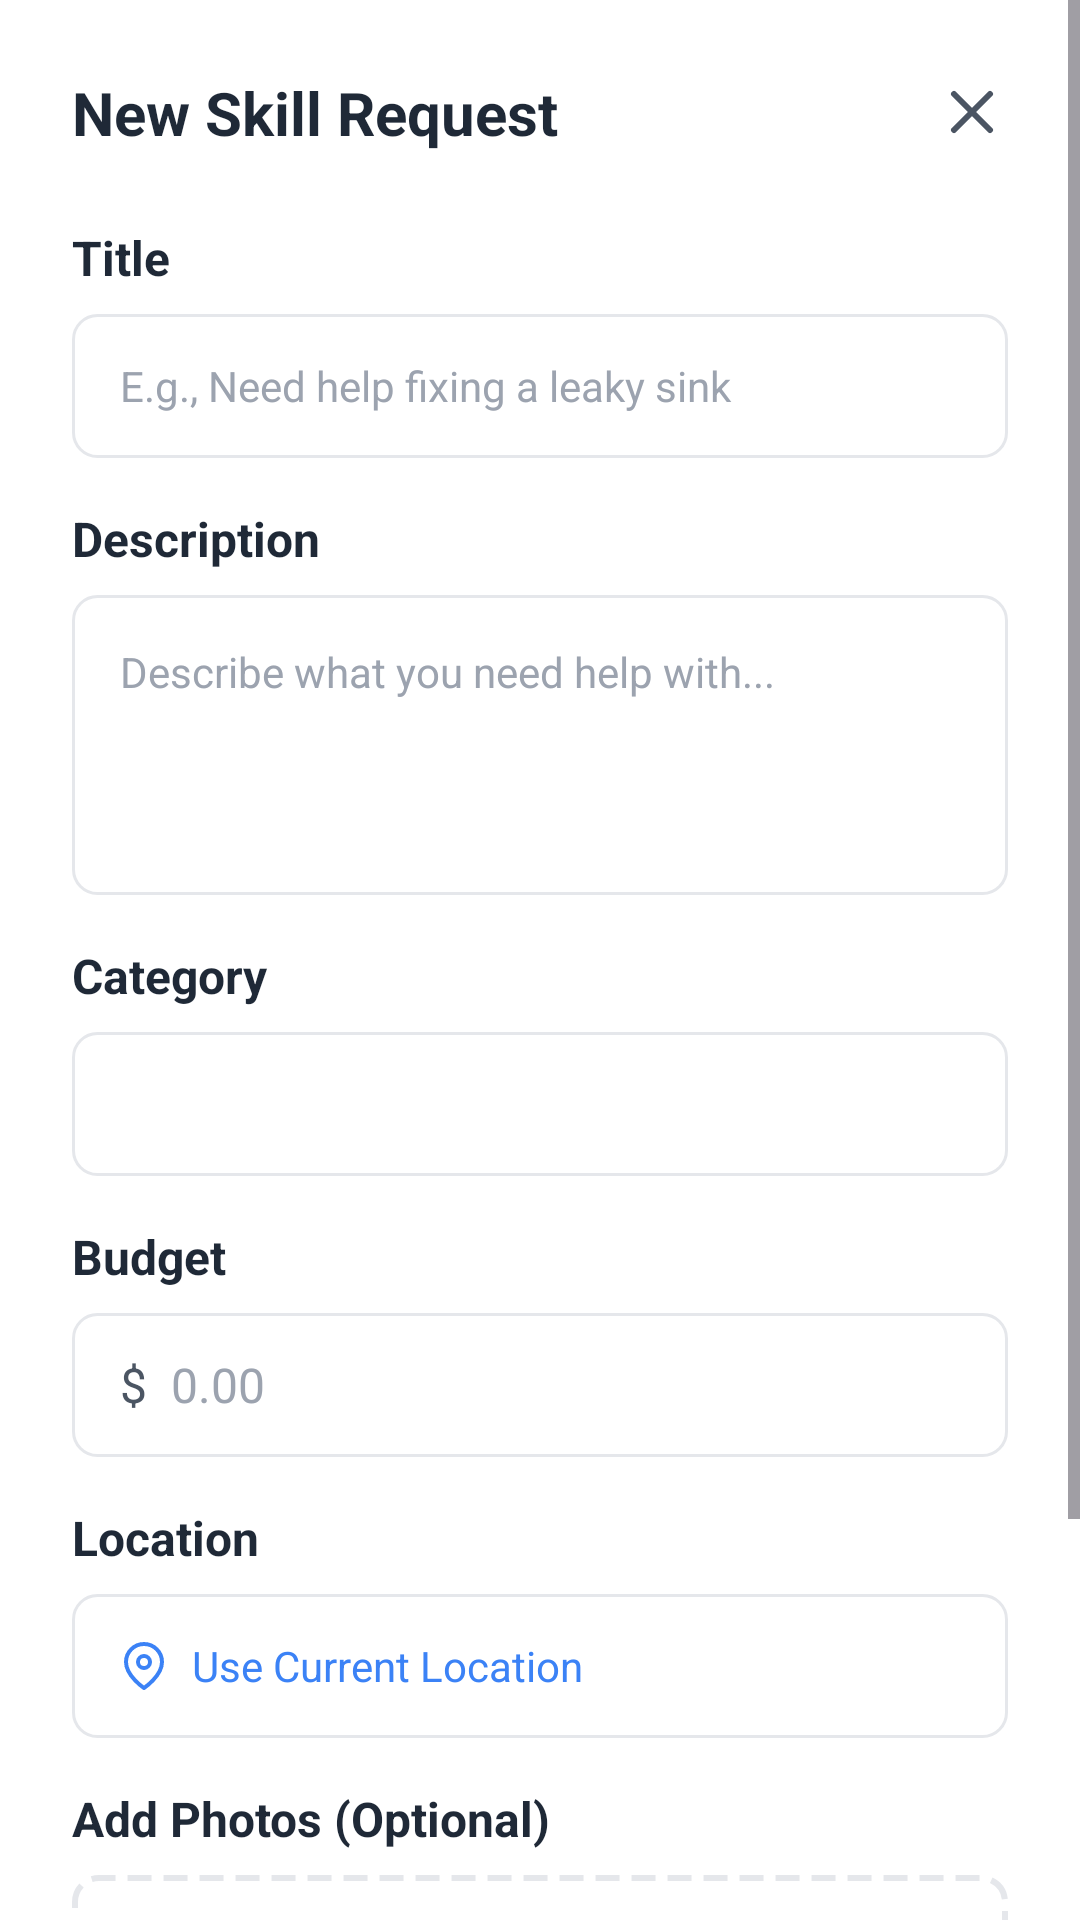

Icons on this 1080w x 1920h Android screen, each with its box as (x1, y1, x2, y2):
Close: (951, 91, 993, 133)
